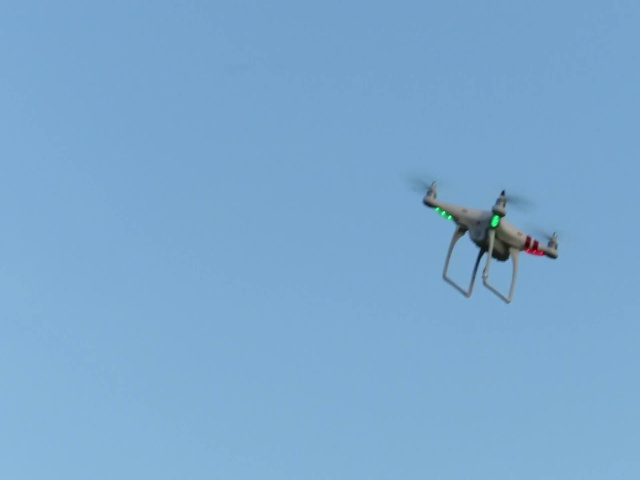drone: (409, 170, 571, 306)
